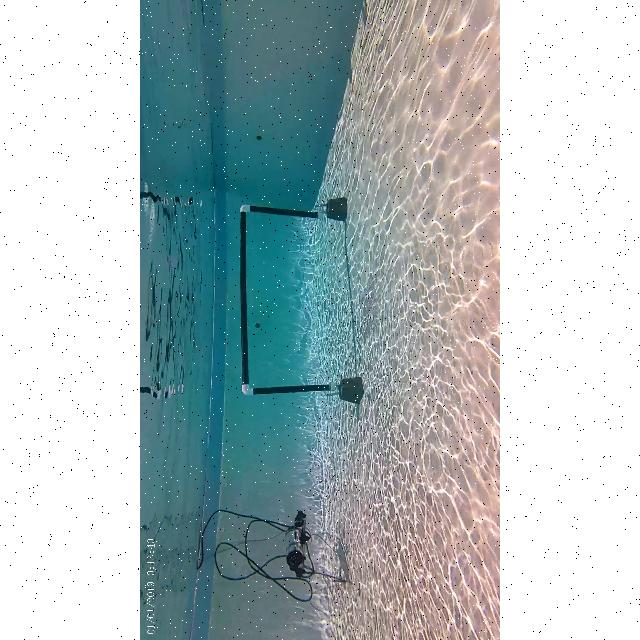prequal gate: (240, 203, 332, 395)
prequal gate leg l: (238, 378, 370, 402)
prequal gate leg r: (234, 198, 352, 228)
